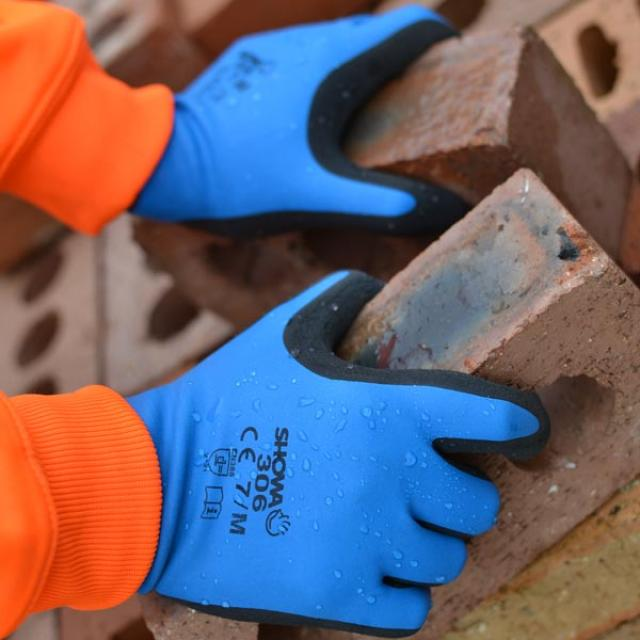gloves: (120, 263, 542, 636), (114, 7, 447, 228)
